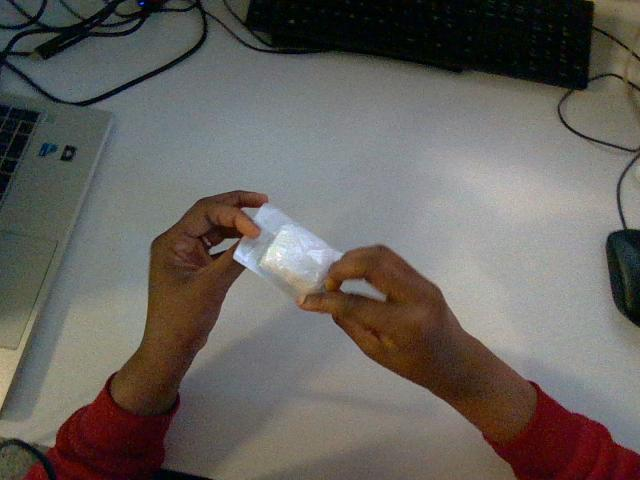gauze: (234, 204, 341, 297)
